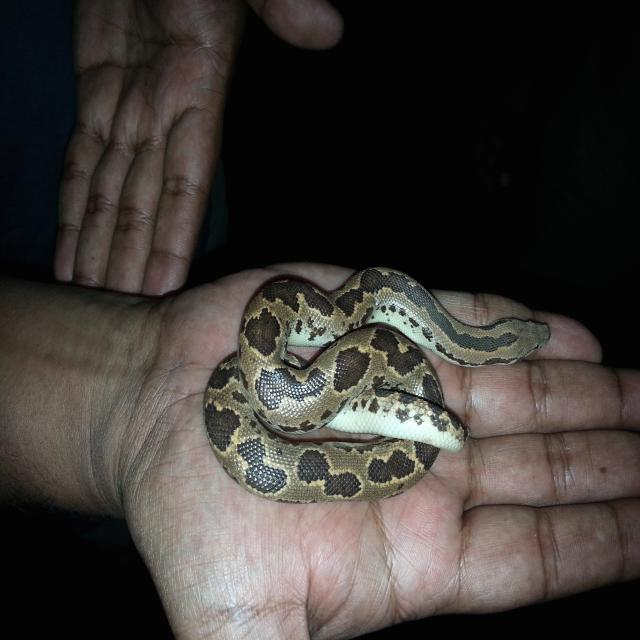Snake: (202, 264, 550, 504)
